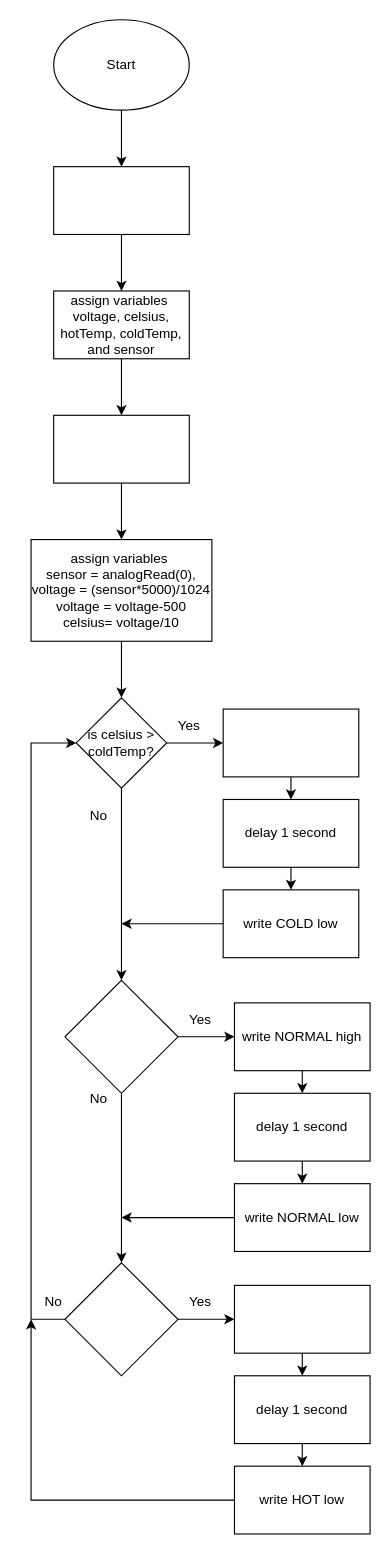
Some shapes in this 390 by 1554 pixel diagram are drawn without their labels. Each missing label, with the box of its shape:
define HOT, NORMAL, and COLD LED pins: (53, 166, 189, 234)
is celsius > coldTemp && <= hotTemp?: (64, 979, 178, 1093)
is celsius > hotTemp?: (64, 1262, 178, 1376)
set pins HOT, NORMAL, and COLD as outputs: (53, 414, 189, 483)
write COLD high: (222, 708, 359, 777)
write HOT high: (233, 1284, 370, 1353)
